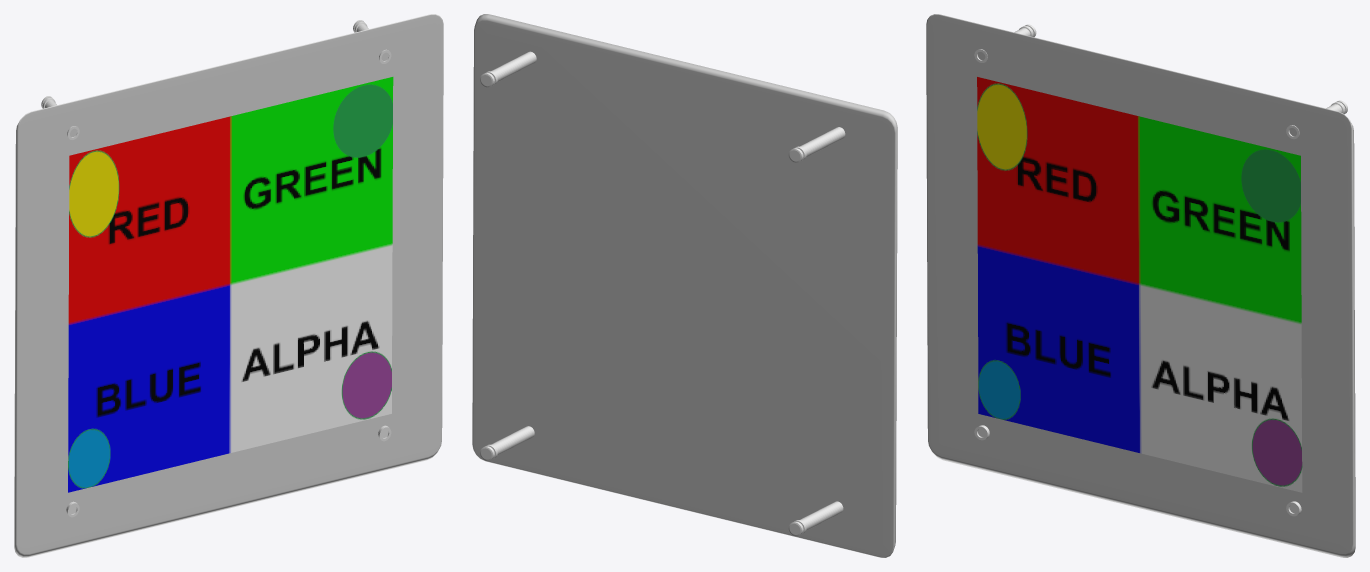
File: Frame14.glb
3 views of the same model, side by side, from view 1: azimuth 30°, elevation 25°; view 2: azimuth 150°, elevation 25°; view 3: azimuth 330°, elevation 25° (orthographic).
Parts seen in each view (by area): view 1: A_PaintingMesh, Empty; view 2: Empty; view 3: A_PaintingMesh, Empty.
Boxes of the visible parts, <box> form: A_PaintingMesh: <box>68,77,393,492</box>; Empty: <box>14,14,443,557</box>; Empty: <box>472,14,897,557</box>; A_PaintingMesh: <box>977,77,1302,492</box>; Empty: <box>926,14,1355,557</box>.
Size of the model in its own units: 1.32 by 1.32 by 0.2055.
6 materials, 1 textured.
